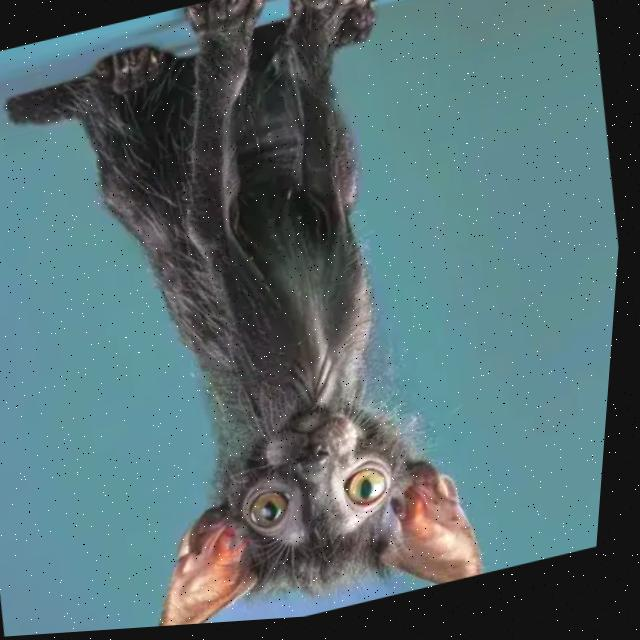Lykoi: (0, 0, 534, 640)
